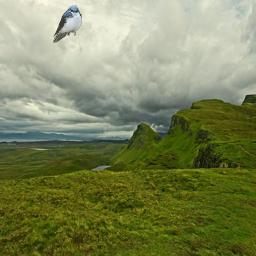Swallow: (52, 5, 82, 43)
